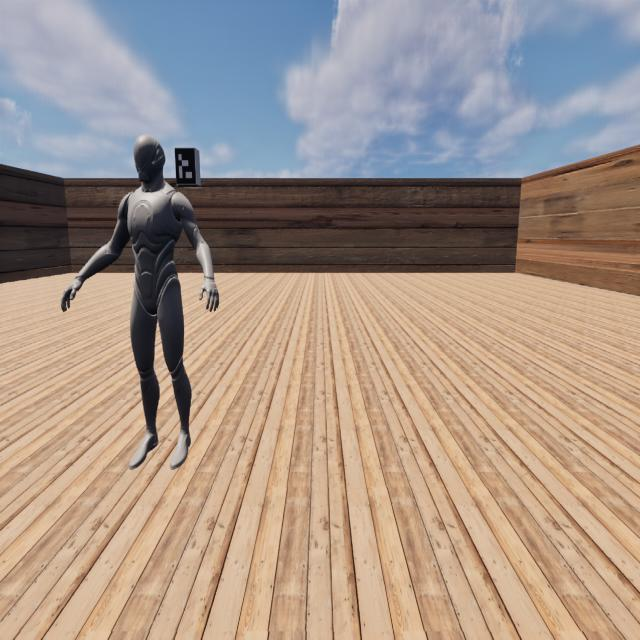aruco: (175, 148, 196, 184)
hip: (133, 276, 181, 295)
